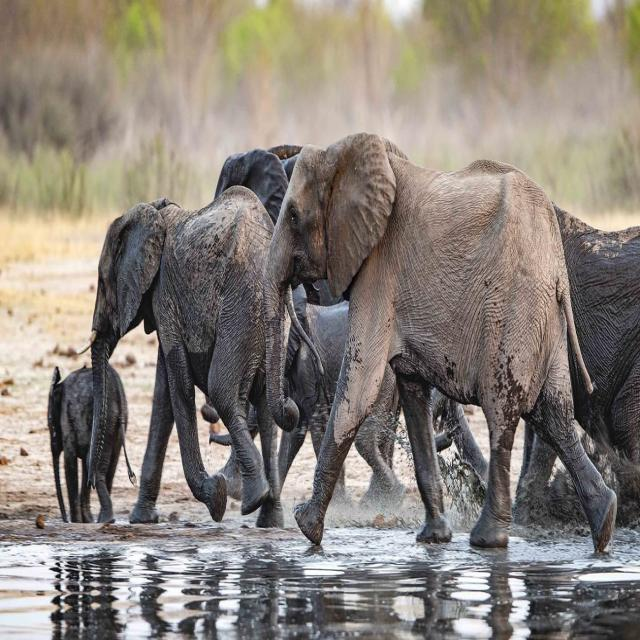Elephant: (262, 130, 618, 553), (75, 184, 306, 526)
Tiger: (47, 362, 136, 524)
